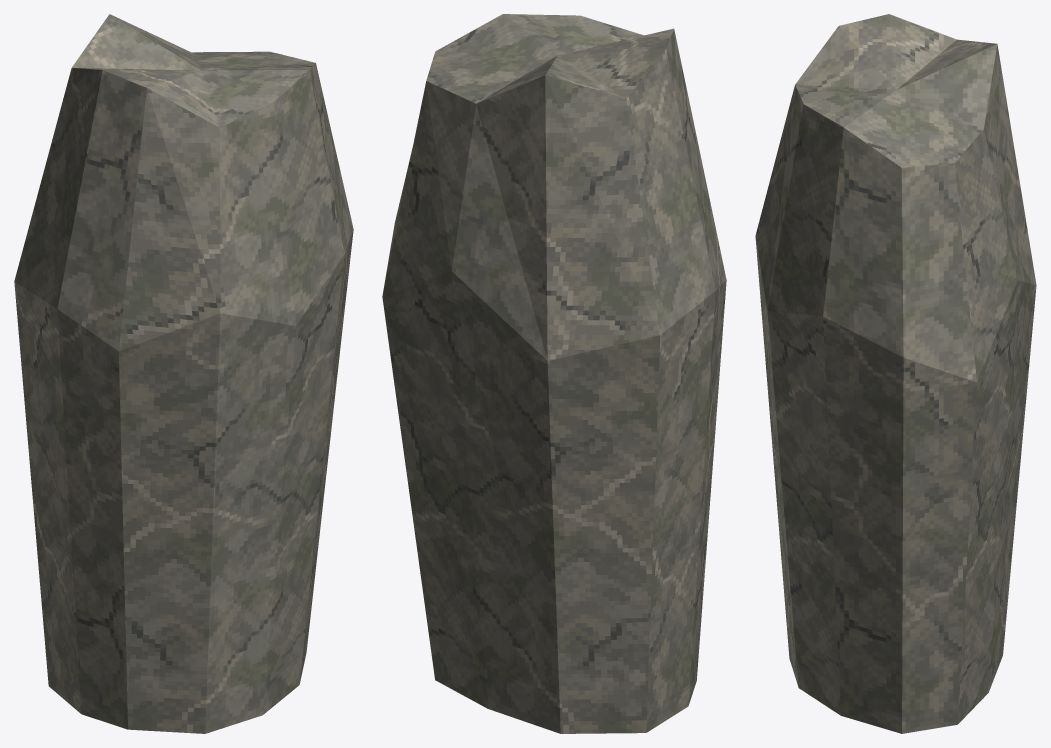
File: Masso_01_Monolite.obj
The picture shows the model from 3 angles, left to right: view 1: azimuth 30°, elevation 25°; view 2: azimuth 150°, elevation 25°; view 3: azimuth 270°, elevation 25°; orthographic projection. The views are drawn at different scales.
Visible parts, largest first — view 1: Masso_01_Monolite; view 2: Masso_01_Monolite; view 3: Masso_01_Monolite.
Boxes of the visible parts, box(x1,y1,x2,y2) form: Masso_01_Monolite: box(14, 14, 353, 733); Masso_01_Monolite: box(382, 14, 726, 733); Masso_01_Monolite: box(755, 14, 1036, 733).
Bounding box in the file's own units: 1.4 × 2.8 × 1.15.
